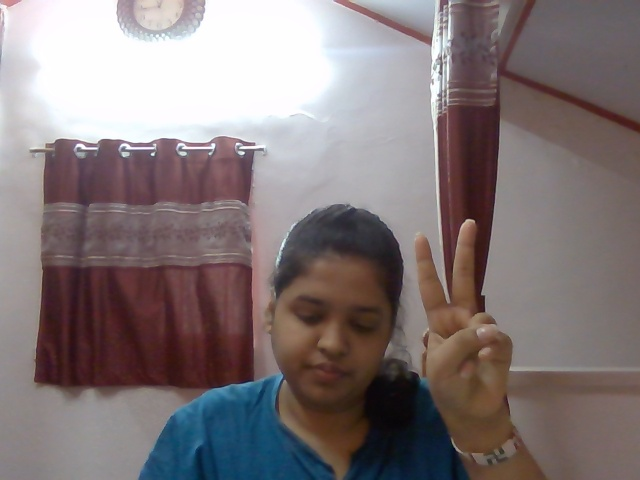v: (389, 209, 544, 419)
